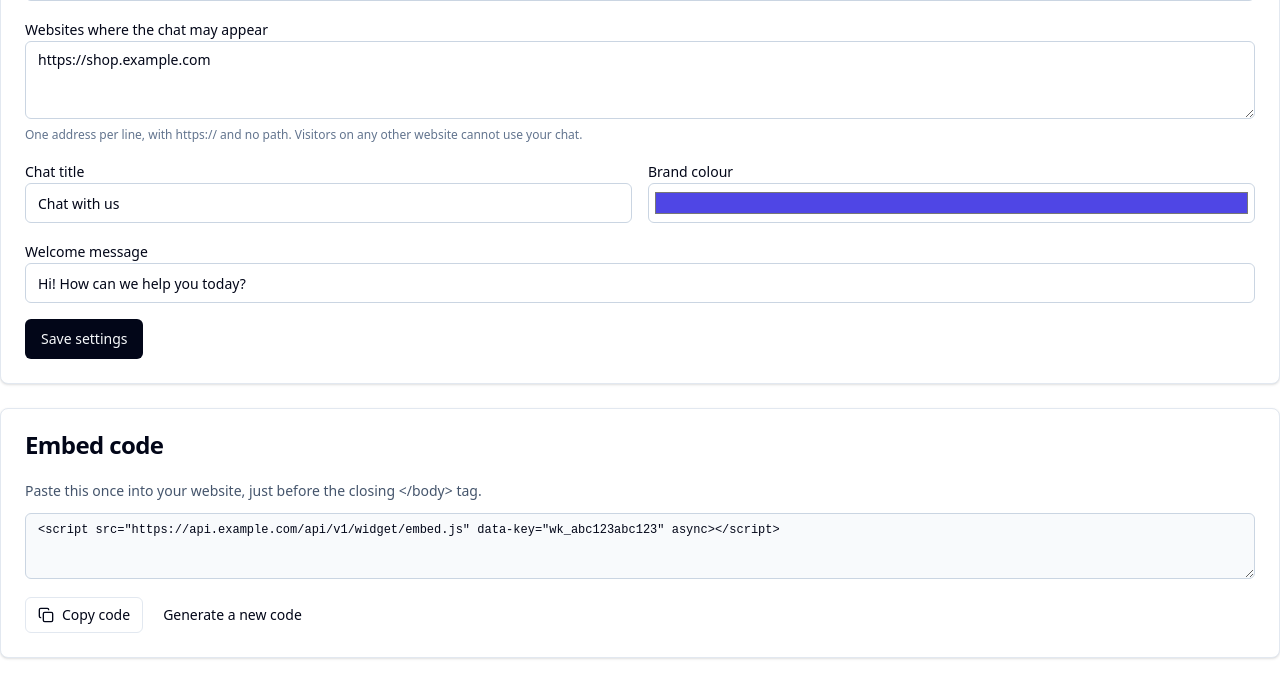
Test: ChannelsPage › shows the server error and no success message when saving fails
(page scrolled)
Click the button "Save settings" at x=84, y=339, box [25,319,144,359]
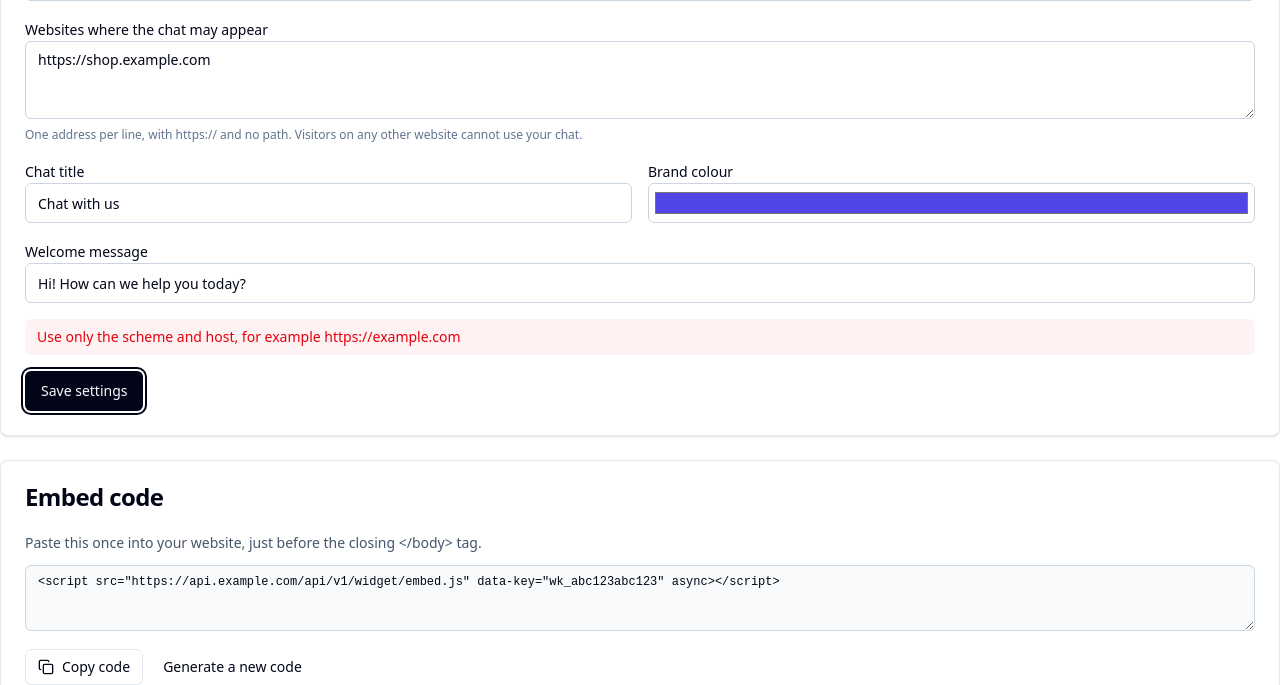
Check: the field labelled "Chat title" holds "Chat with us", box [25,183,632,223]
Check: the text "Use only the scheme and host, for example https://example.com" is shown, box [25,319,1255,355]
